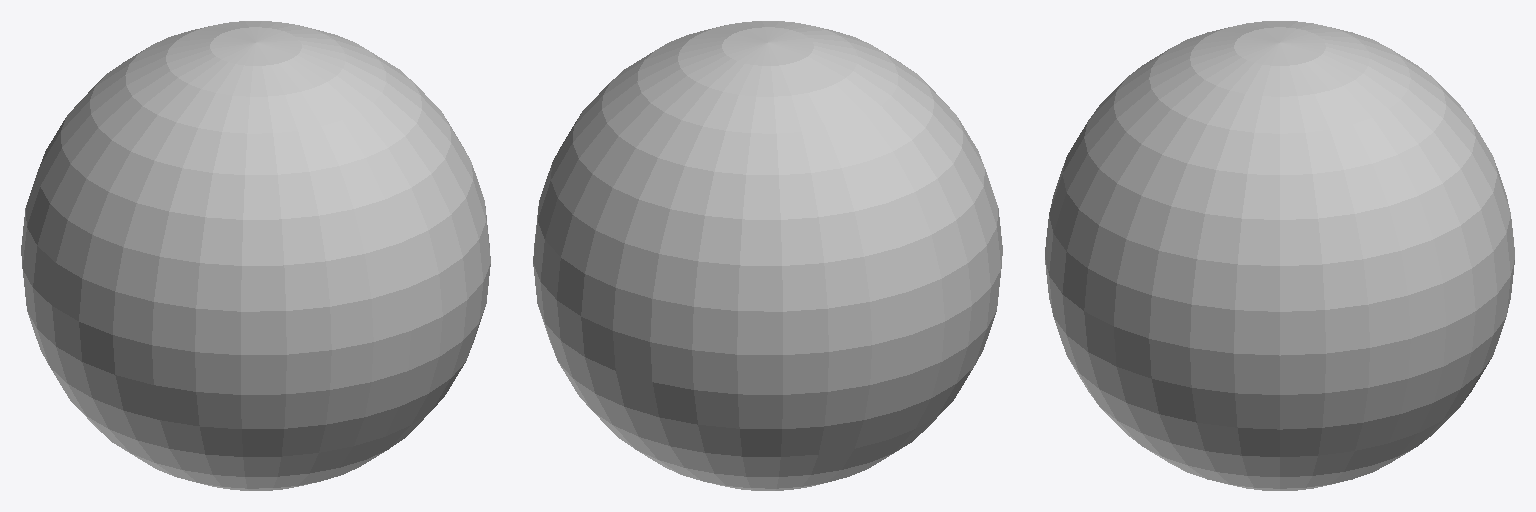
3 renders of one model, left to right at view 1: azimuth 30°, elevation 25°; view 2: azimuth 150°, elevation 25°; view 3: azimuth 270°, elevation 25°, orthographic.
Visible parts, largest first — view 1: Ball; view 2: Ball; view 3: Ball.
Part boxes in pixels (bbox=[...]): Ball: bbox=[21, 21, 490, 490]; Ball: bbox=[533, 21, 1002, 490]; Ball: bbox=[1045, 21, 1514, 490].
Bounding box in the file's own units: 1 × 1 × 1.